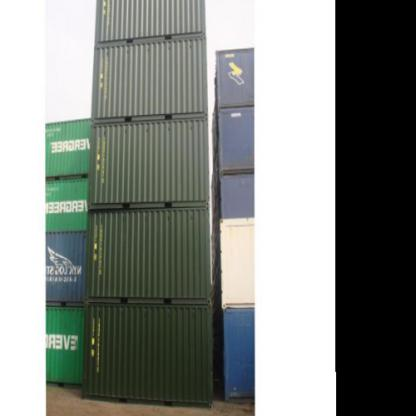Damage: (164, 209, 200, 229), (121, 124, 152, 136)
